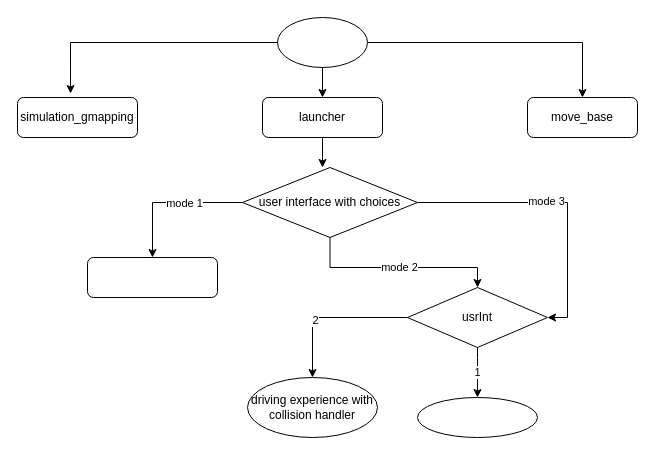
The diagram is 655 pixels wide and 455 high, and some of its shapes have lost their labels. The box of each missing label's shape, as (x1, y1, x2, y2) in pixels:
automatic reach of the position: (86, 256, 218, 298)
driving experience: (416, 396, 538, 438)
Launch: (276, 16, 368, 68)
